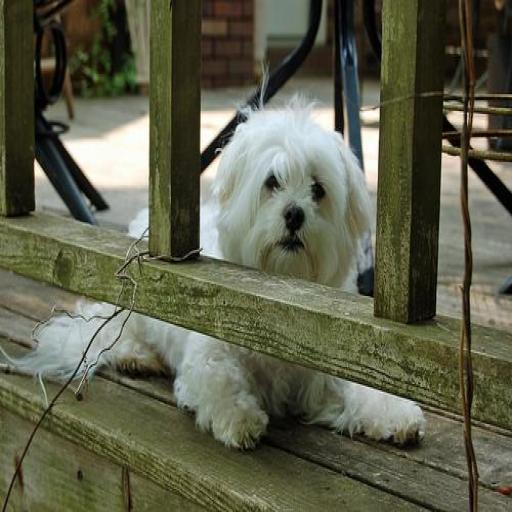dog_face: (224, 120, 356, 282)
